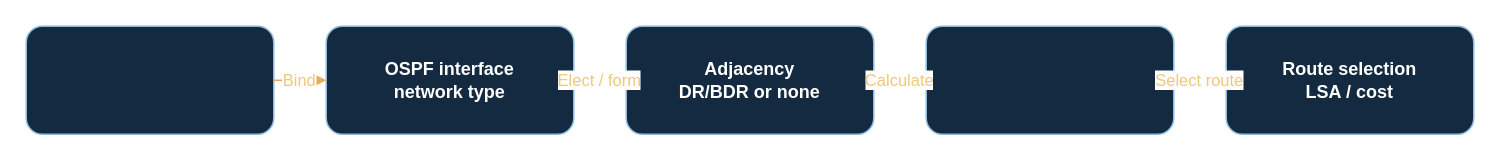
The diagram is 1500 pixels wide and 161 high, and some of its shapes have lost their labels. Each missing label, with the centre of its shape:
"Reference bandwidth cost formula" goes at point (1049, 79).
"Routed VLAN RVI" goes at point (149, 79).
